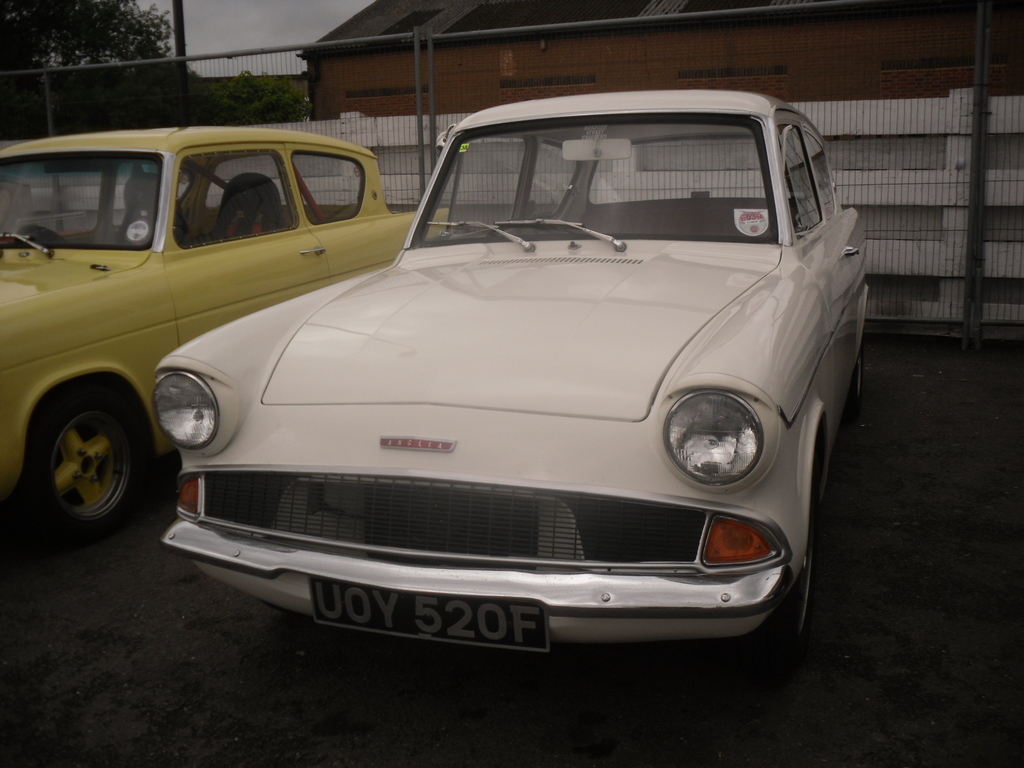Car: (151, 90, 869, 652), (0, 124, 449, 537)
